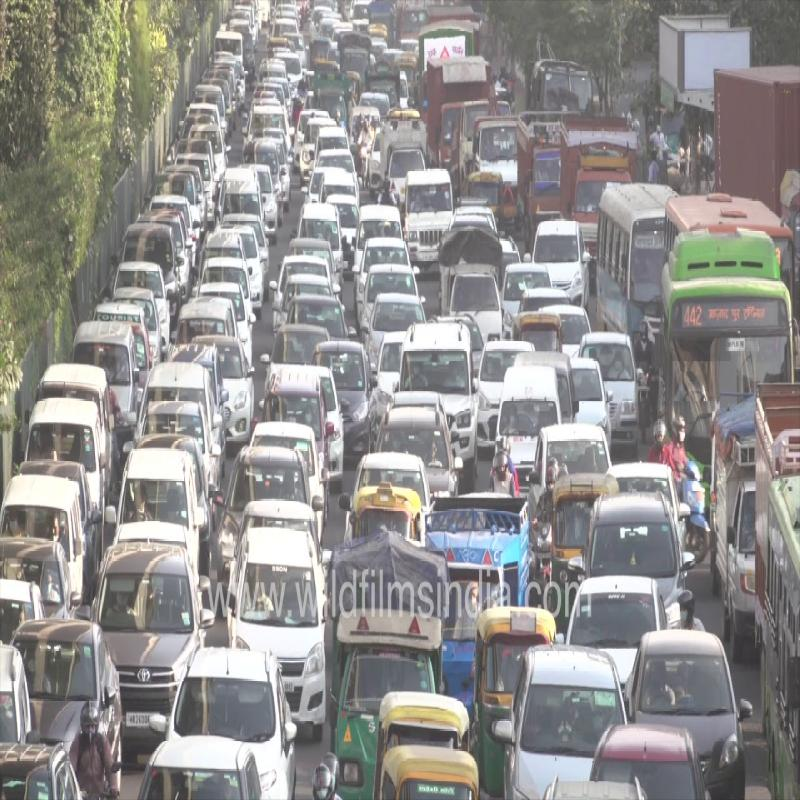bus: (654, 228, 799, 516), (754, 430, 800, 785)
car: (164, 641, 320, 800), (90, 547, 210, 753), (232, 517, 332, 746), (505, 639, 626, 800), (118, 436, 201, 578)
